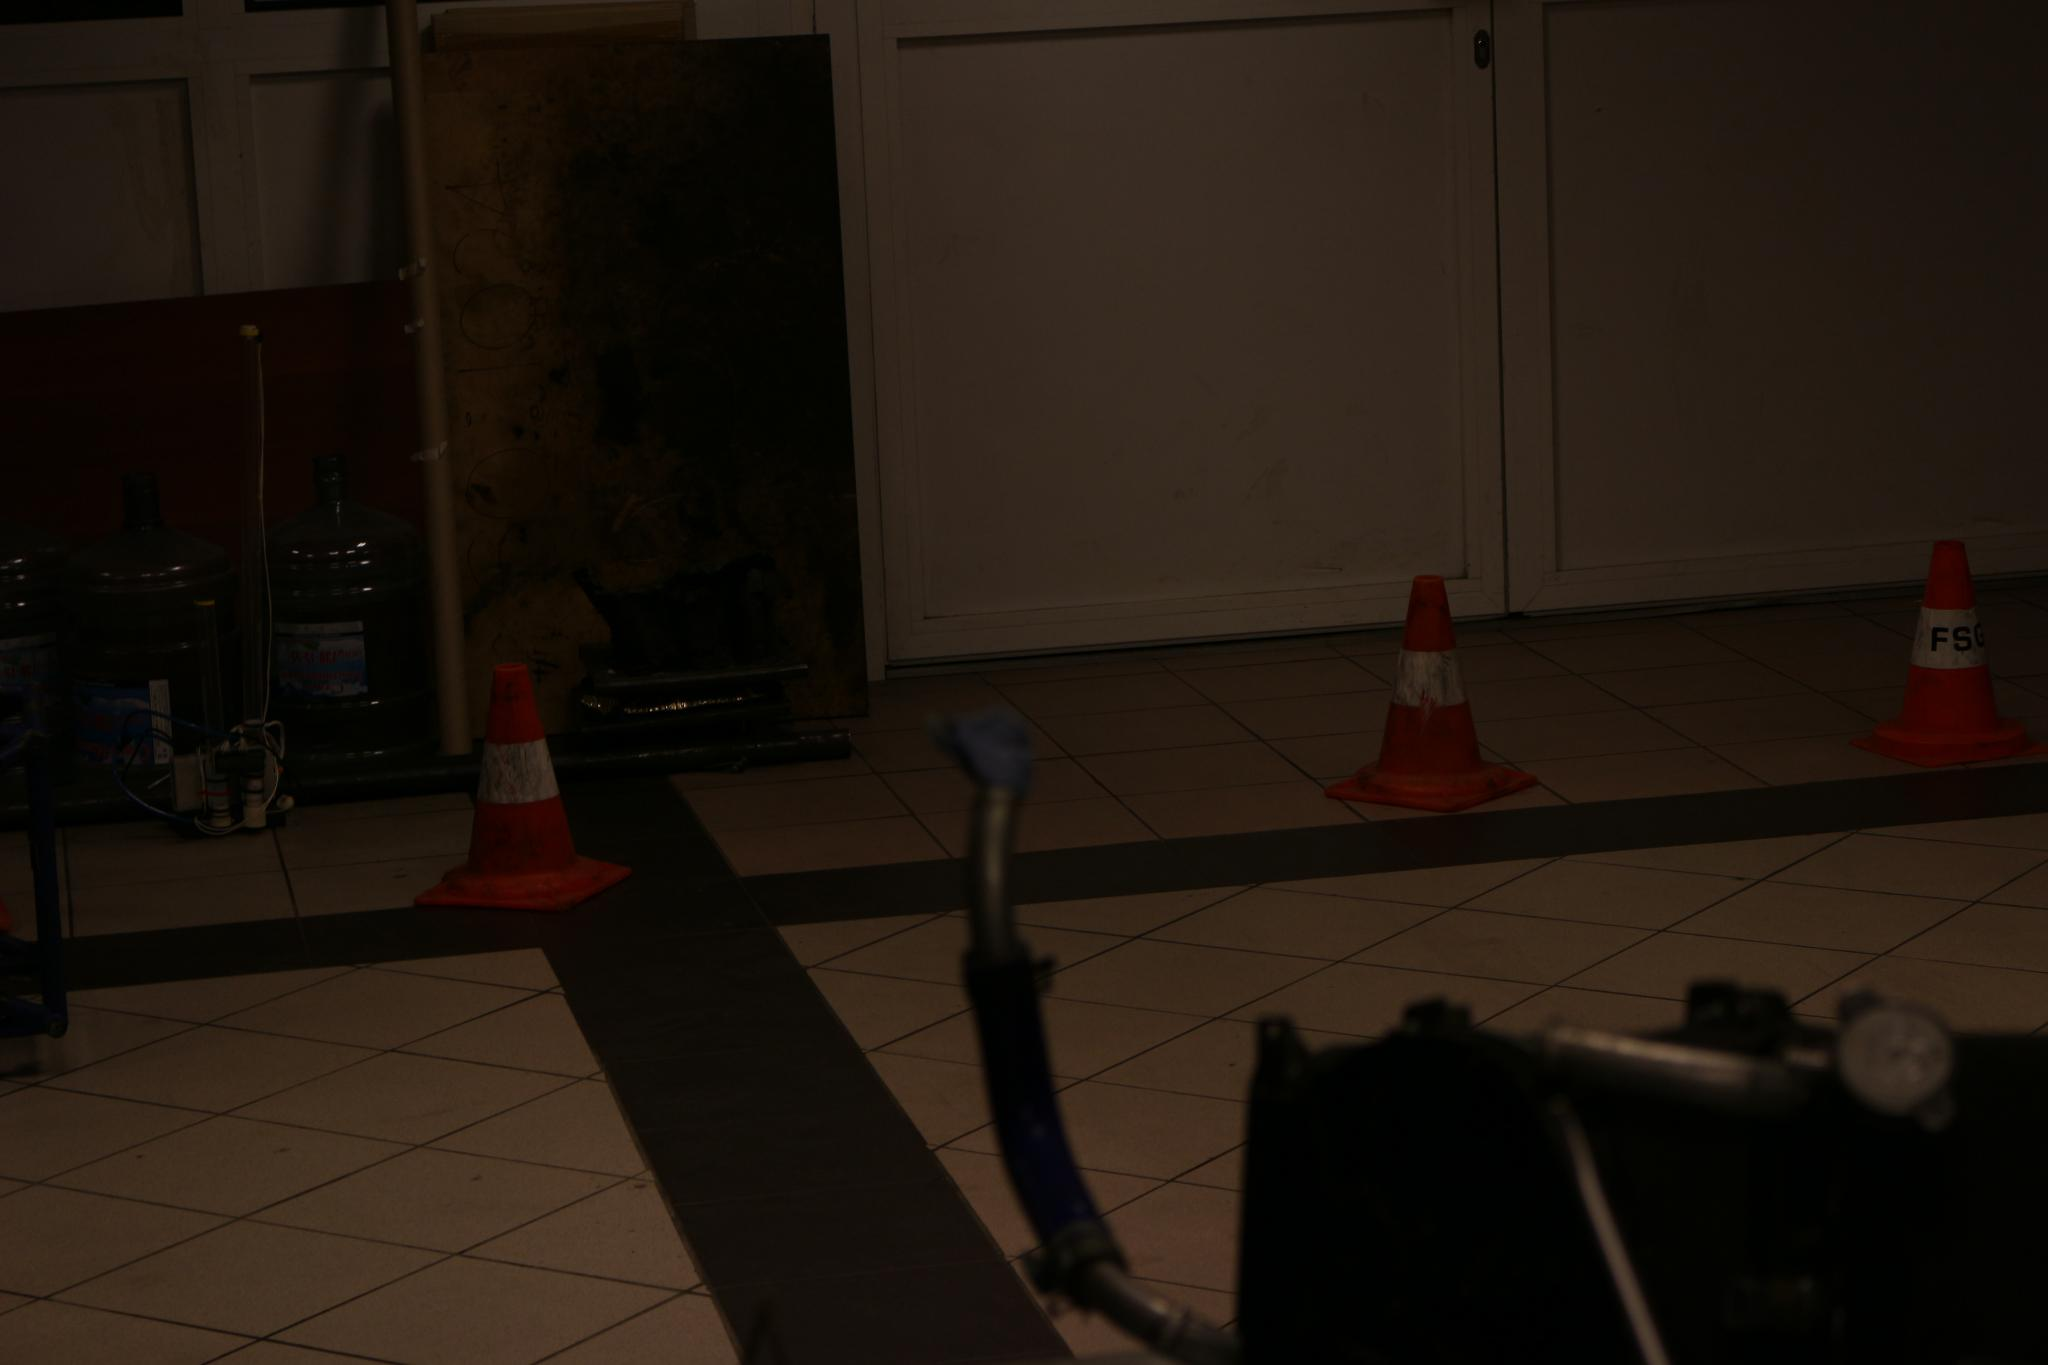Orange_Cone: (411, 652, 626, 911), (1335, 562, 1530, 821), (1864, 530, 2027, 774)
